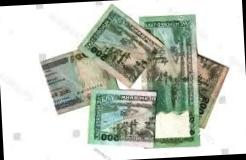100 tk: (78, 81, 162, 152), (38, 46, 119, 116)
500 tk: (78, 1, 162, 86), (150, 16, 203, 148), (195, 51, 230, 129)
